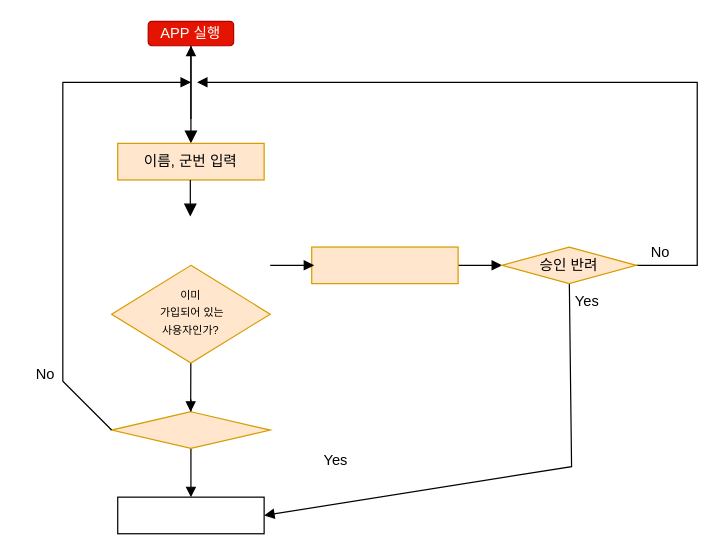
Some shapes in this 728 by 555 pixel diagram are drawn without their labels. Each missing label, with the centre of its shape:
"승인 대기" goes at point 190,429.
"재가입 사유 기입" goes at point 384,265.
